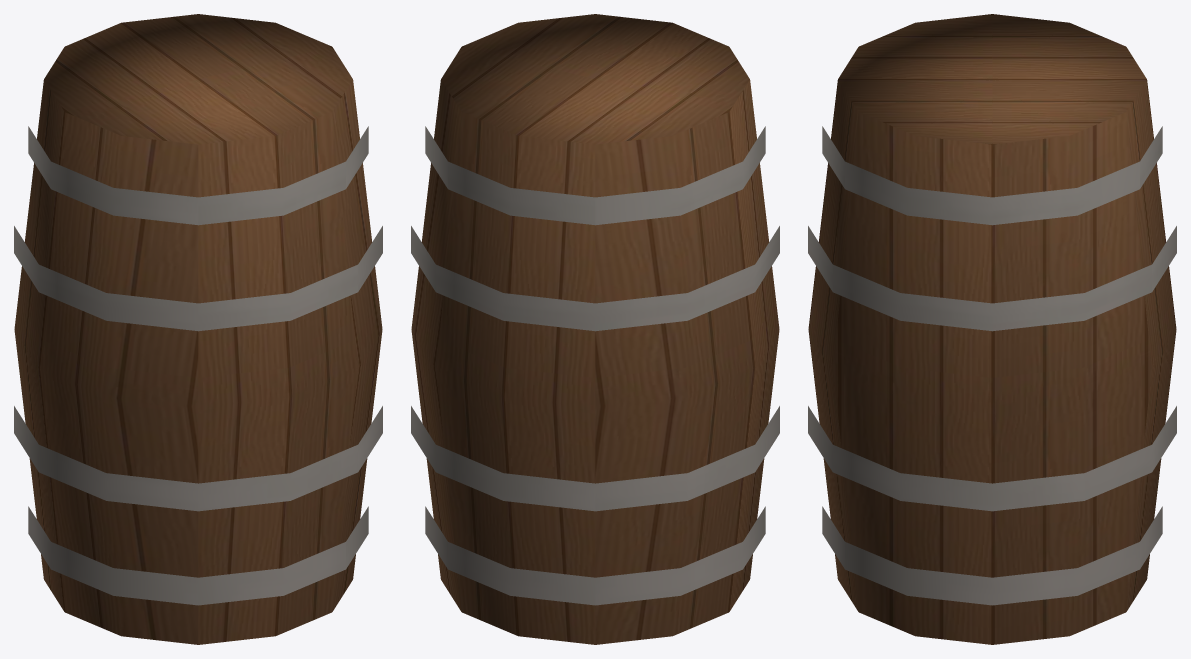
File: barrel.glb
3 views of the same model, side by side, from view 1: azimuth 30°, elevation 25°; view 2: azimuth 150°, elevation 25°; view 3: azimuth 270°, elevation 25° (orthographic).
Visible parts, largest first — view 1: prop.barrel; view 2: prop.barrel; view 3: prop.barrel.
Boxes of the visible parts, left/top/right/bottom form: prop.barrel: left=14, top=14, right=382, bottom=644; prop.barrel: left=411, top=14, right=779, bottom=644; prop.barrel: left=808, top=14, right=1176, bottom=644.
Size of the model in its own units: 0.6011 by 0.9 by 0.6011.
Materials: 2 (2 with a texture image).
